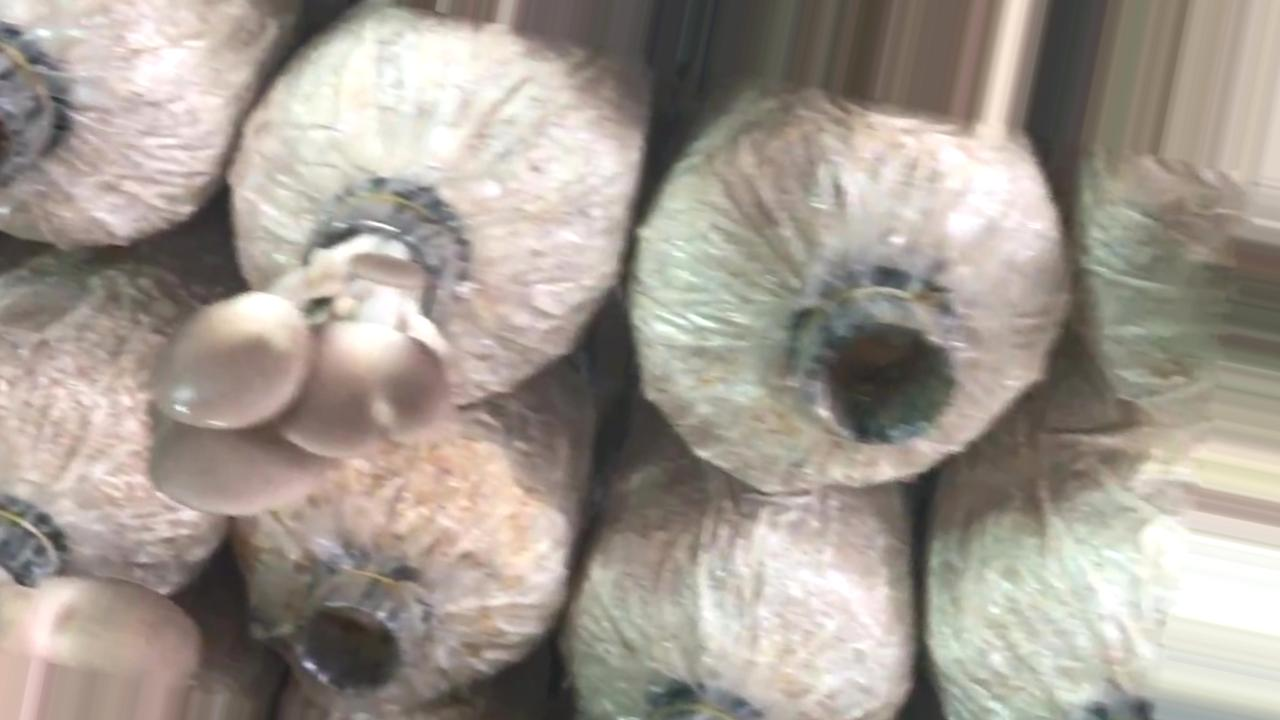nam: (149, 199, 459, 514)
